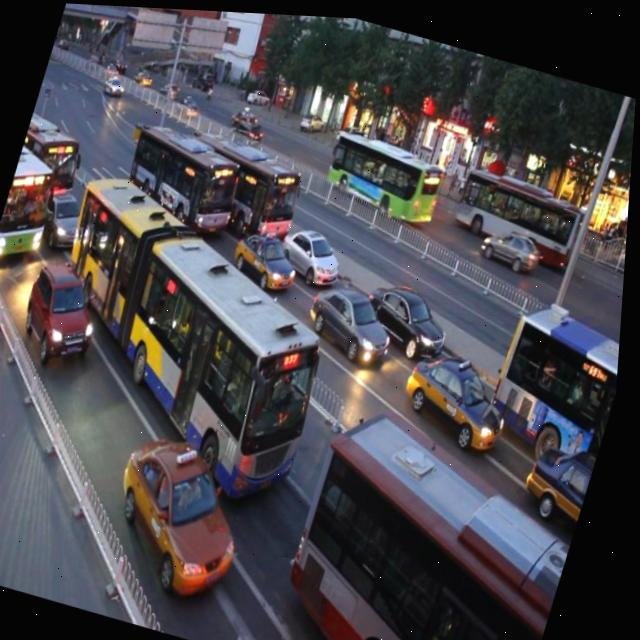car: (101, 424, 265, 603), (398, 329, 527, 450), (16, 256, 114, 372), (302, 263, 407, 362), (362, 262, 464, 354), (521, 426, 604, 516), (229, 210, 310, 289), (274, 205, 353, 283), (32, 185, 96, 256)
van: (14, 154, 369, 505), (272, 392, 601, 640), (484, 289, 626, 465), (115, 104, 255, 242), (175, 113, 316, 243), (0, 128, 74, 271), (11, 99, 94, 209)
